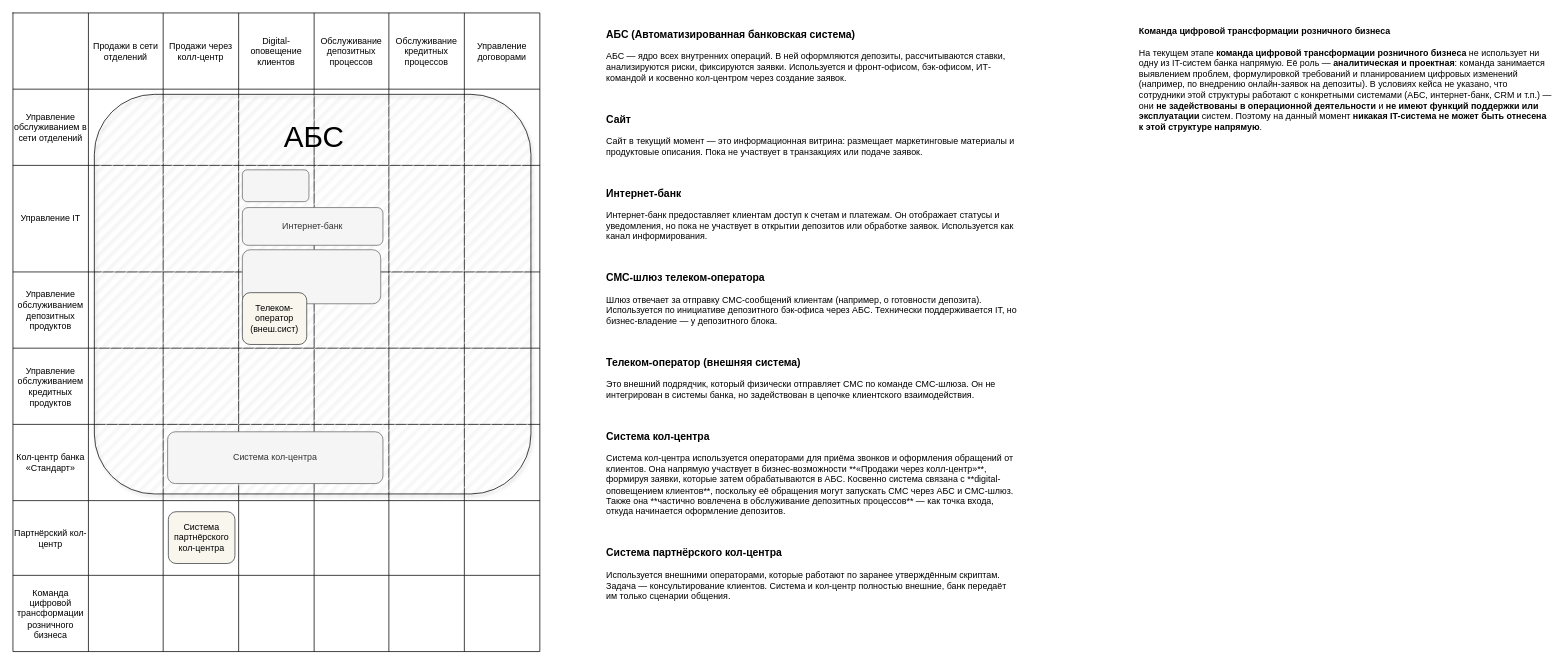
This 1565x665 diagram has some shape labels left out. The centre of each missing label's shape, as x and y in pixels:
Сайт: point 275,185
СМС-шлюз телеком-оператора: point 311,276
